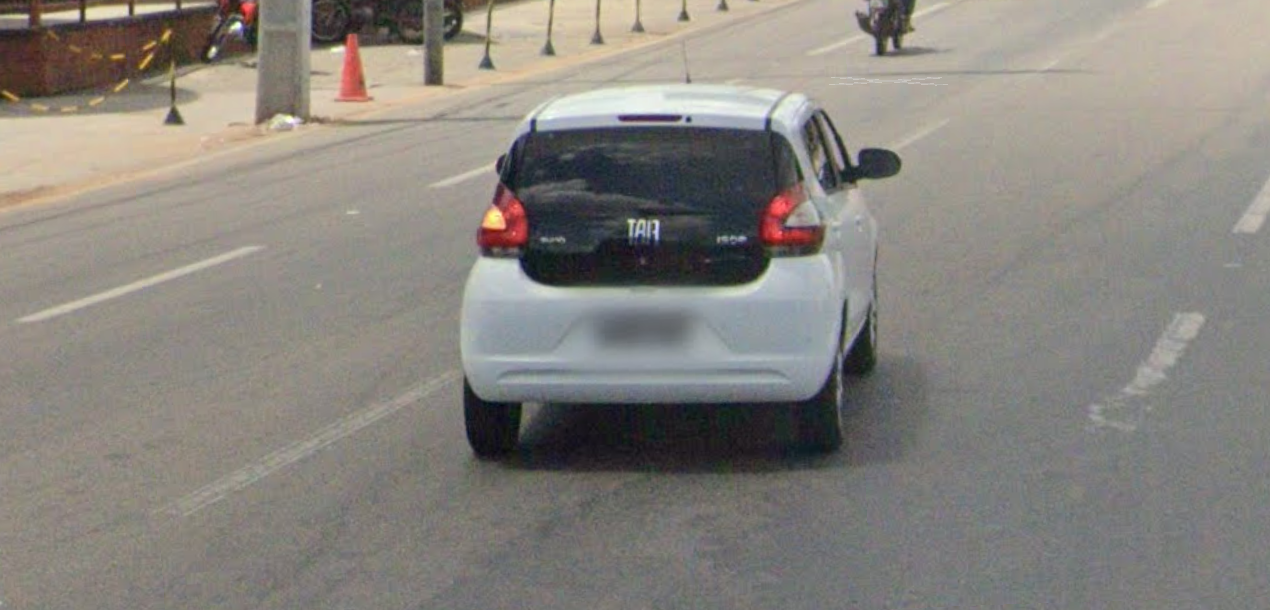car: (451, 43, 909, 475)
